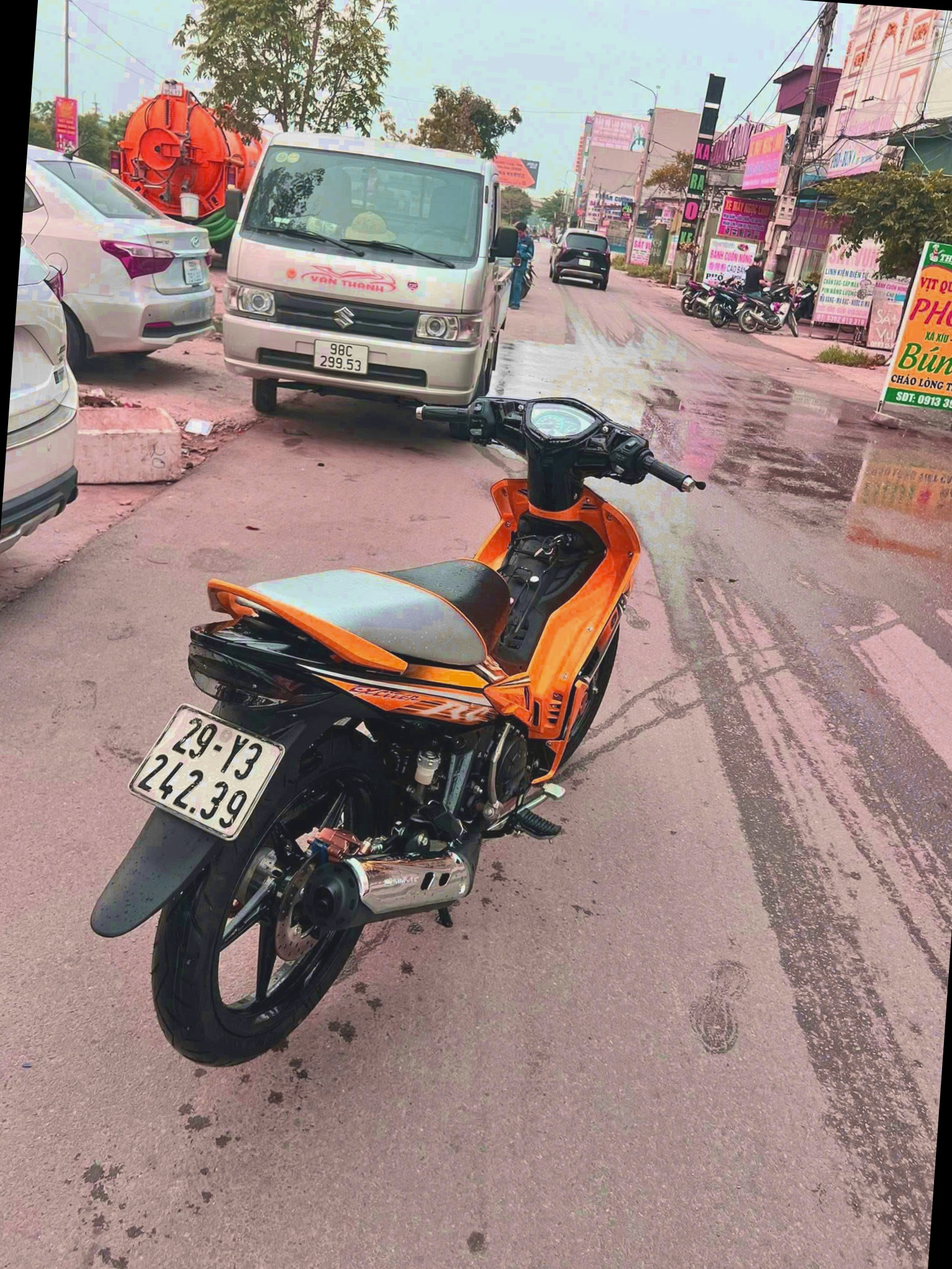Bien-so: (141, 702, 296, 833)
